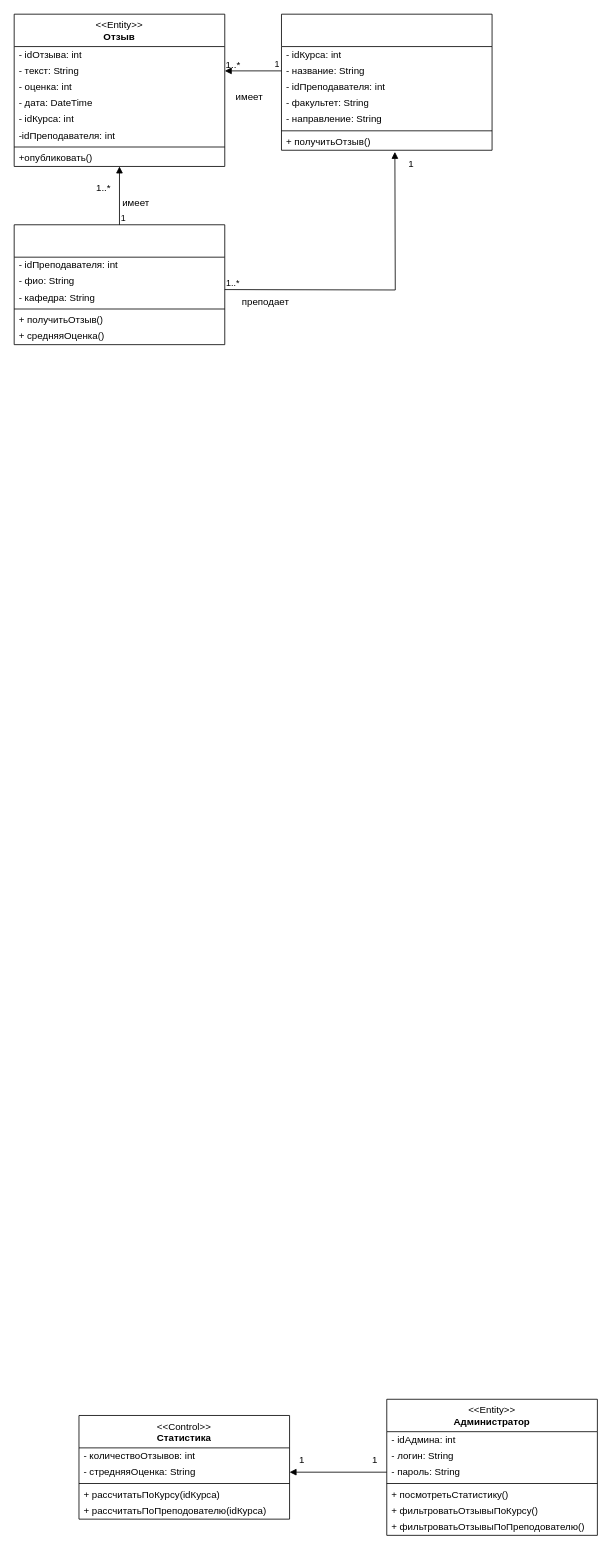
The diagram is 612 pixels wide and 1550 high, and some of its shapes have lost their labels. The box of each missing label's shape, as (x1, y1, x2, y2) in pixels:
<<Entity>> Курс: (281, 13, 492, 150)
<<Entity>> Преподаватель: (13, 224, 225, 345)
